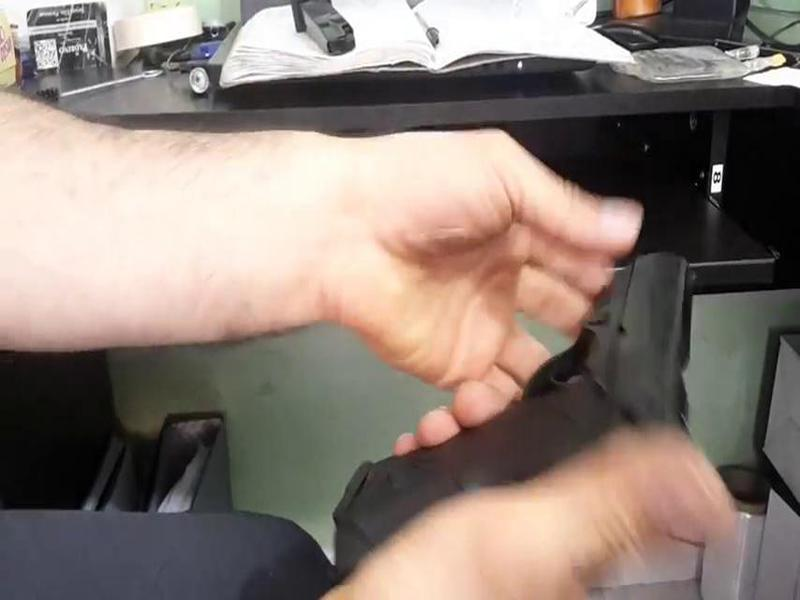Pistola: (341, 225, 692, 574)
